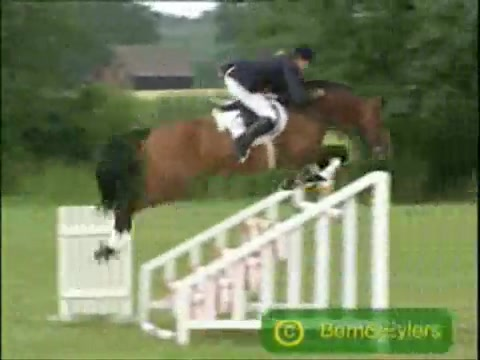horse: (95, 81, 391, 261)
